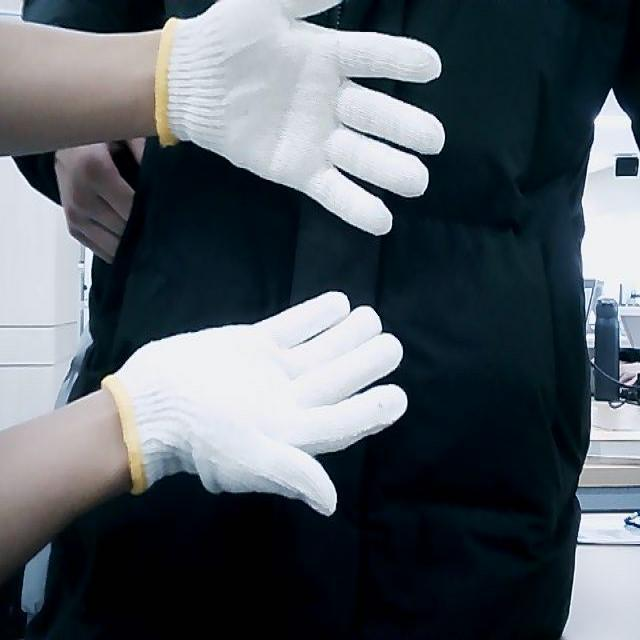gloves: (152, 0, 446, 240), (100, 289, 408, 516)
